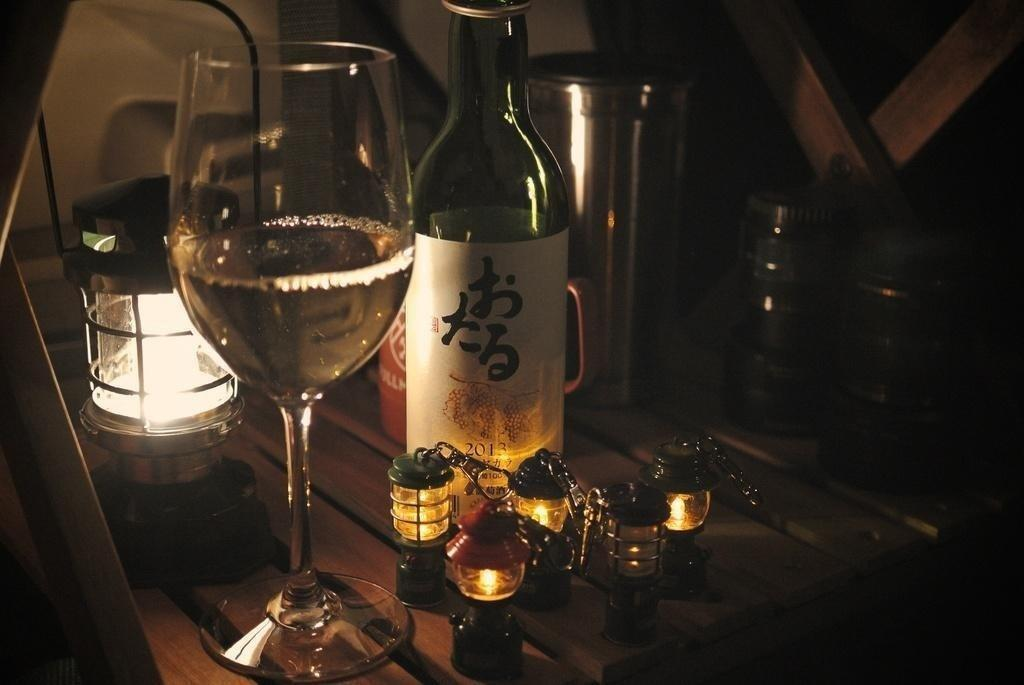bottle-glass: (402, 1, 576, 463)
glass-wine: (167, 39, 411, 679)
